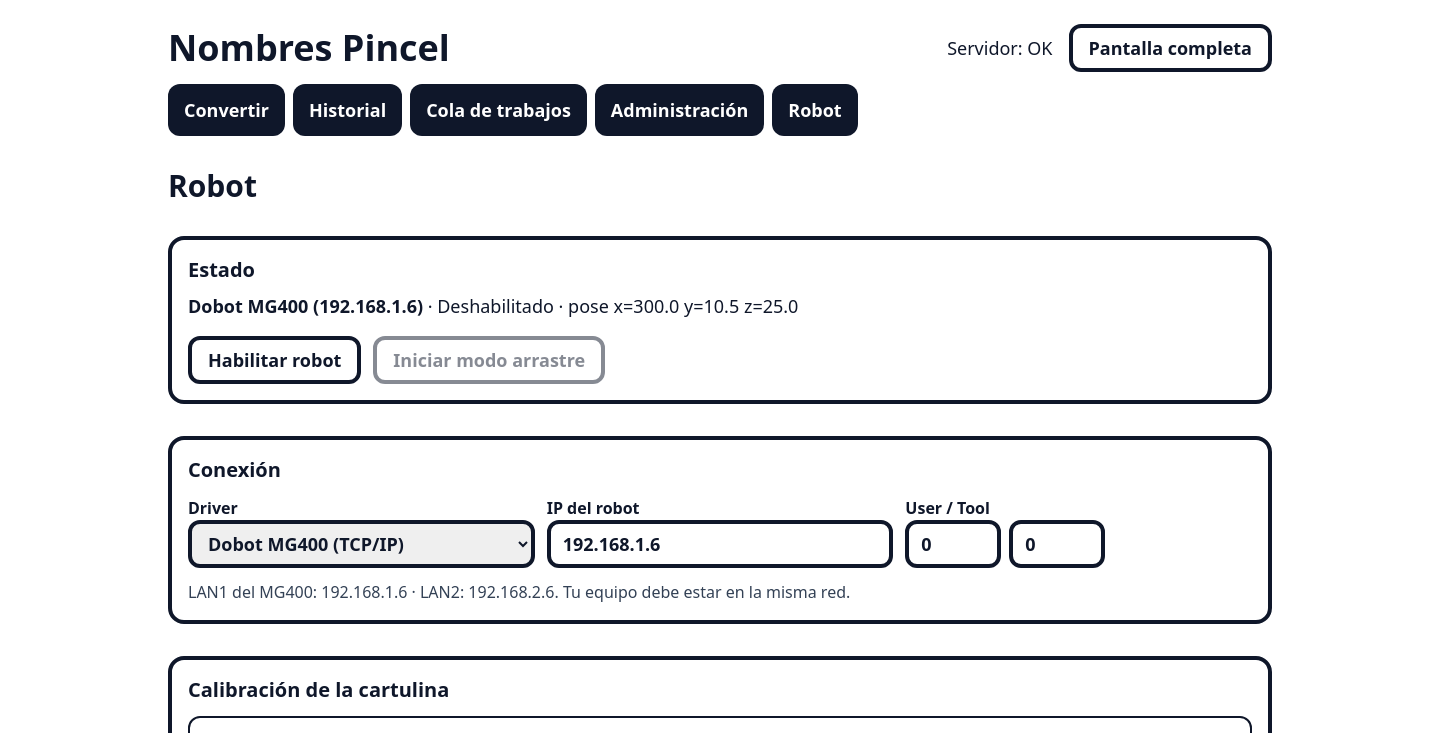
Test case: RobotPage: habilitar y modo arrastre › habilita el robot solo tras confirmar
This screenshot has width=1440, height=733.
Click the button "Habilitar robot": point(275, 360) [188,336,361,384]
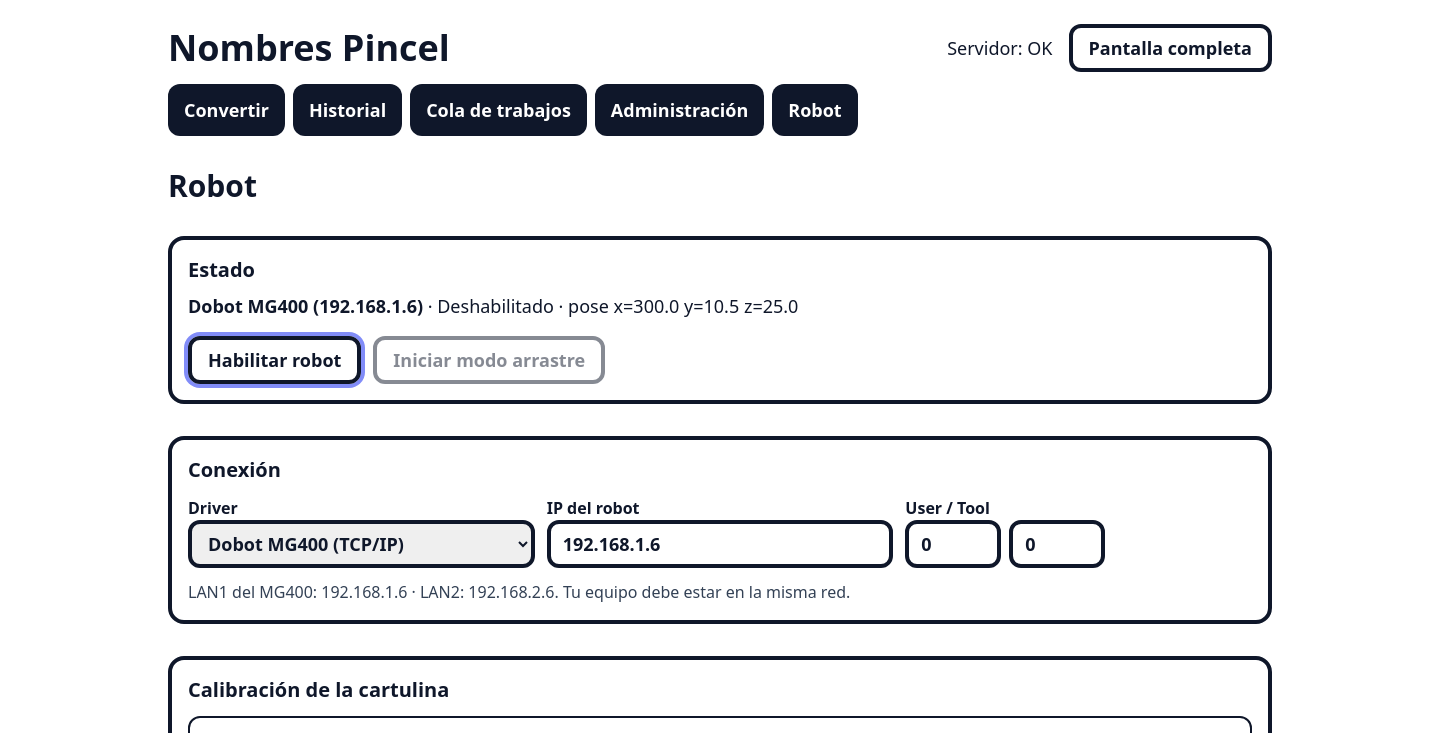
Click the button "Habilitar robot": point(275, 360) [188,336,361,384]
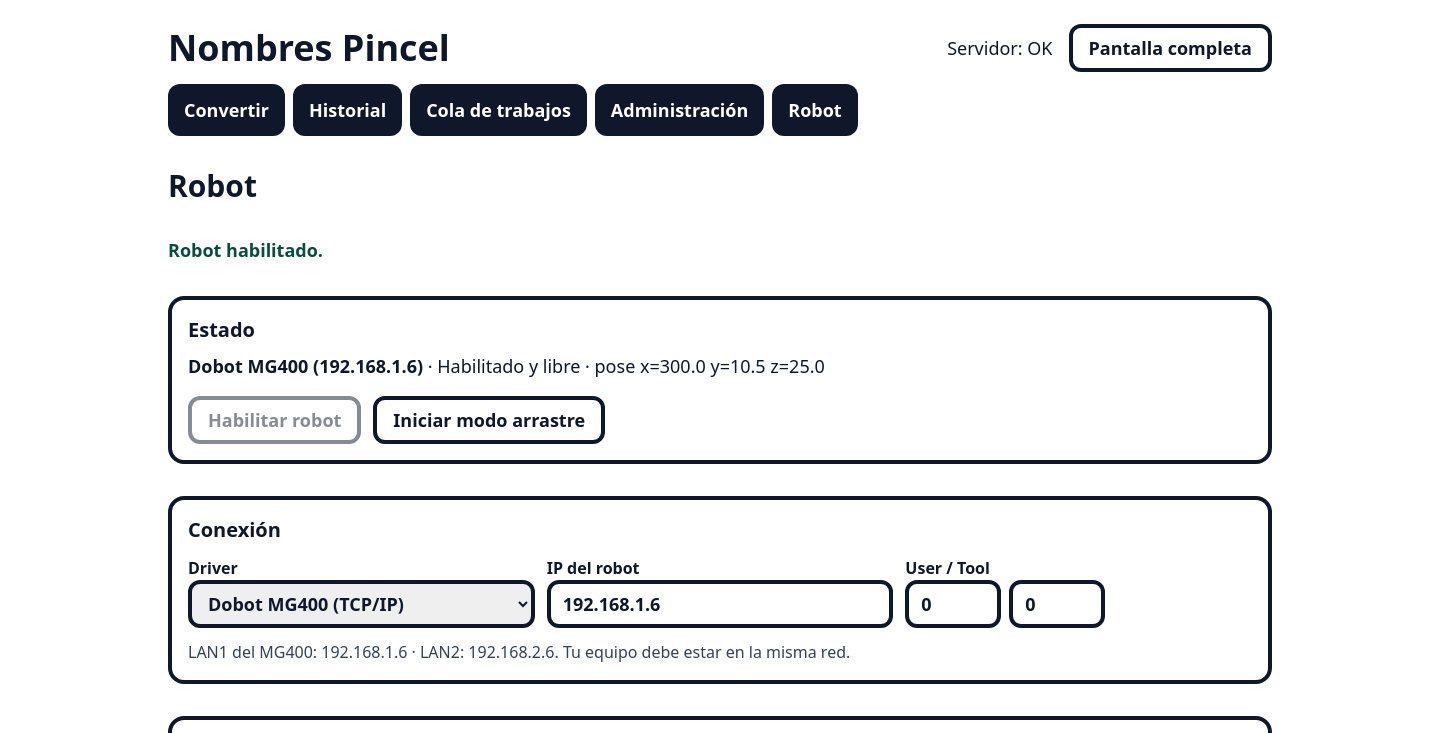
Expected: the text "Robot habilitado." is shown, [168,238,323,262]
